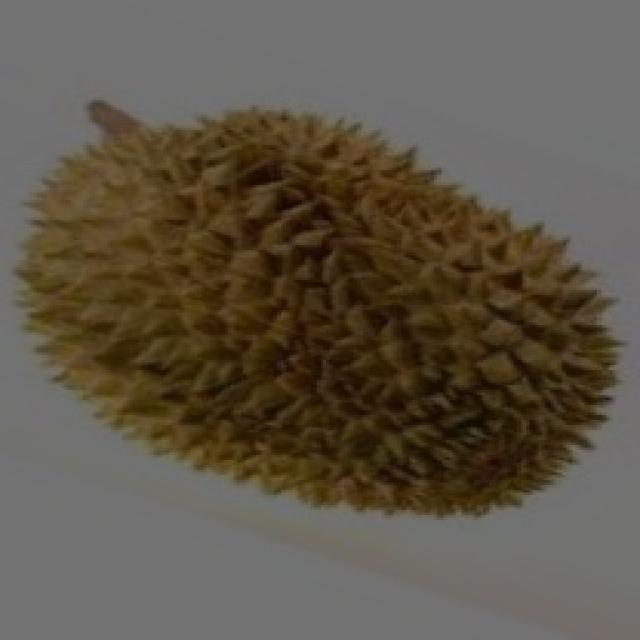fruit: (0, 142, 360, 562), (283, 147, 640, 565)
